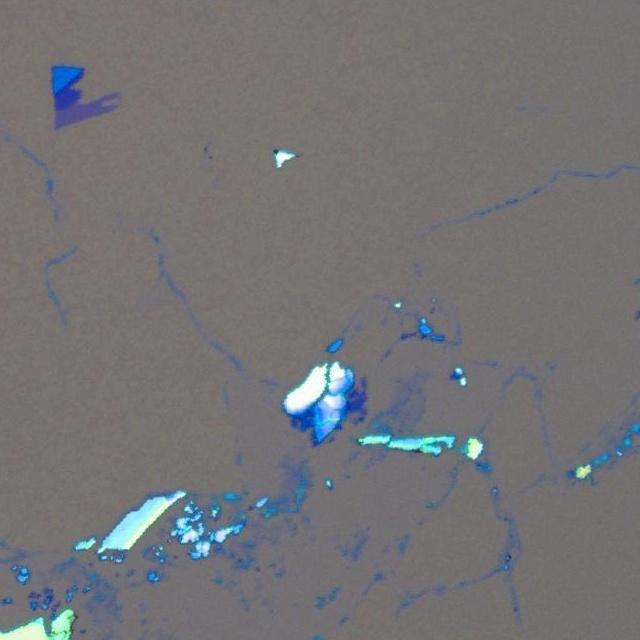monolayer-eWW4: (54, 92, 126, 133)
